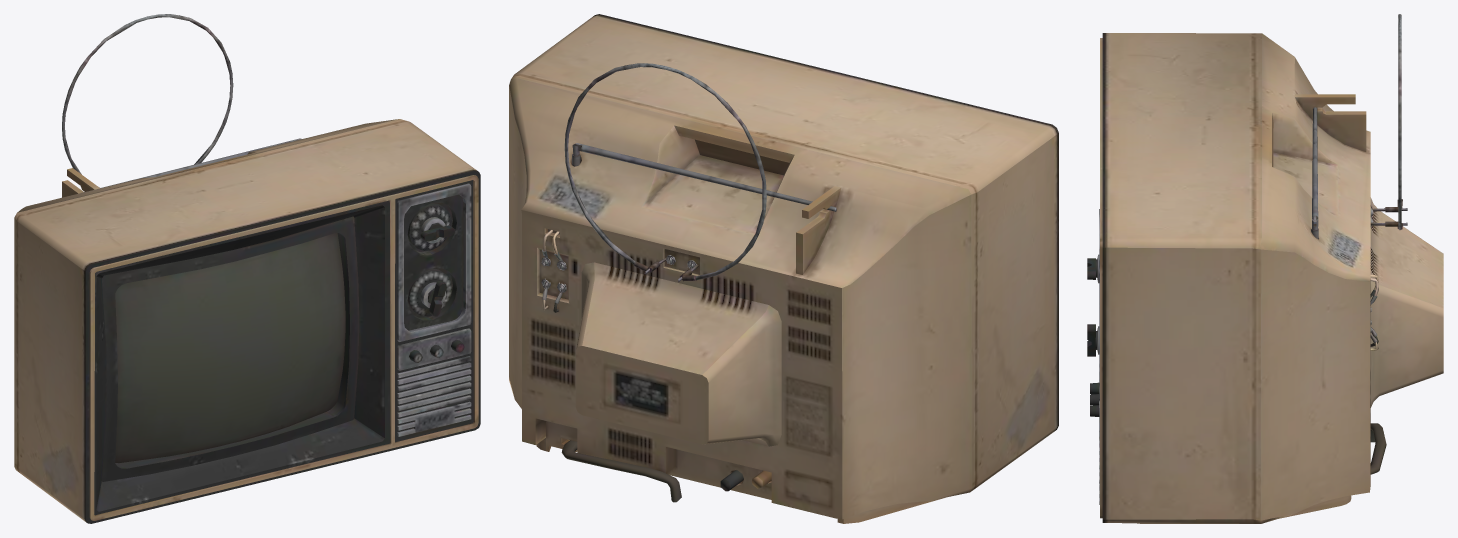
The model's file is oldtv_large_off.glb.
3 views of the same model, side by side, from view 1: azimuth 30°, elevation 25°; view 2: azimuth 150°, elevation 25°; view 3: azimuth 270°, elevation 25° (orthographic). The views are drawn at different scales.
Parts seen in each view (by area): view 1: OldTV_large_off; view 2: OldTV_large_off; view 3: OldTV_large_off.
Boxes of the visible parts, x1=… form: OldTV_large_off: x1=14, y1=14, x2=480, y2=523; OldTV_large_off: x1=509, y1=14, x2=1058, y2=523; OldTV_large_off: x1=1087, y1=14, x2=1443, y2=523.
Bounding box in the file's own units: 0.7167 × 0.6566 × 0.5111.
Materials: 1 (1 with a texture image).
